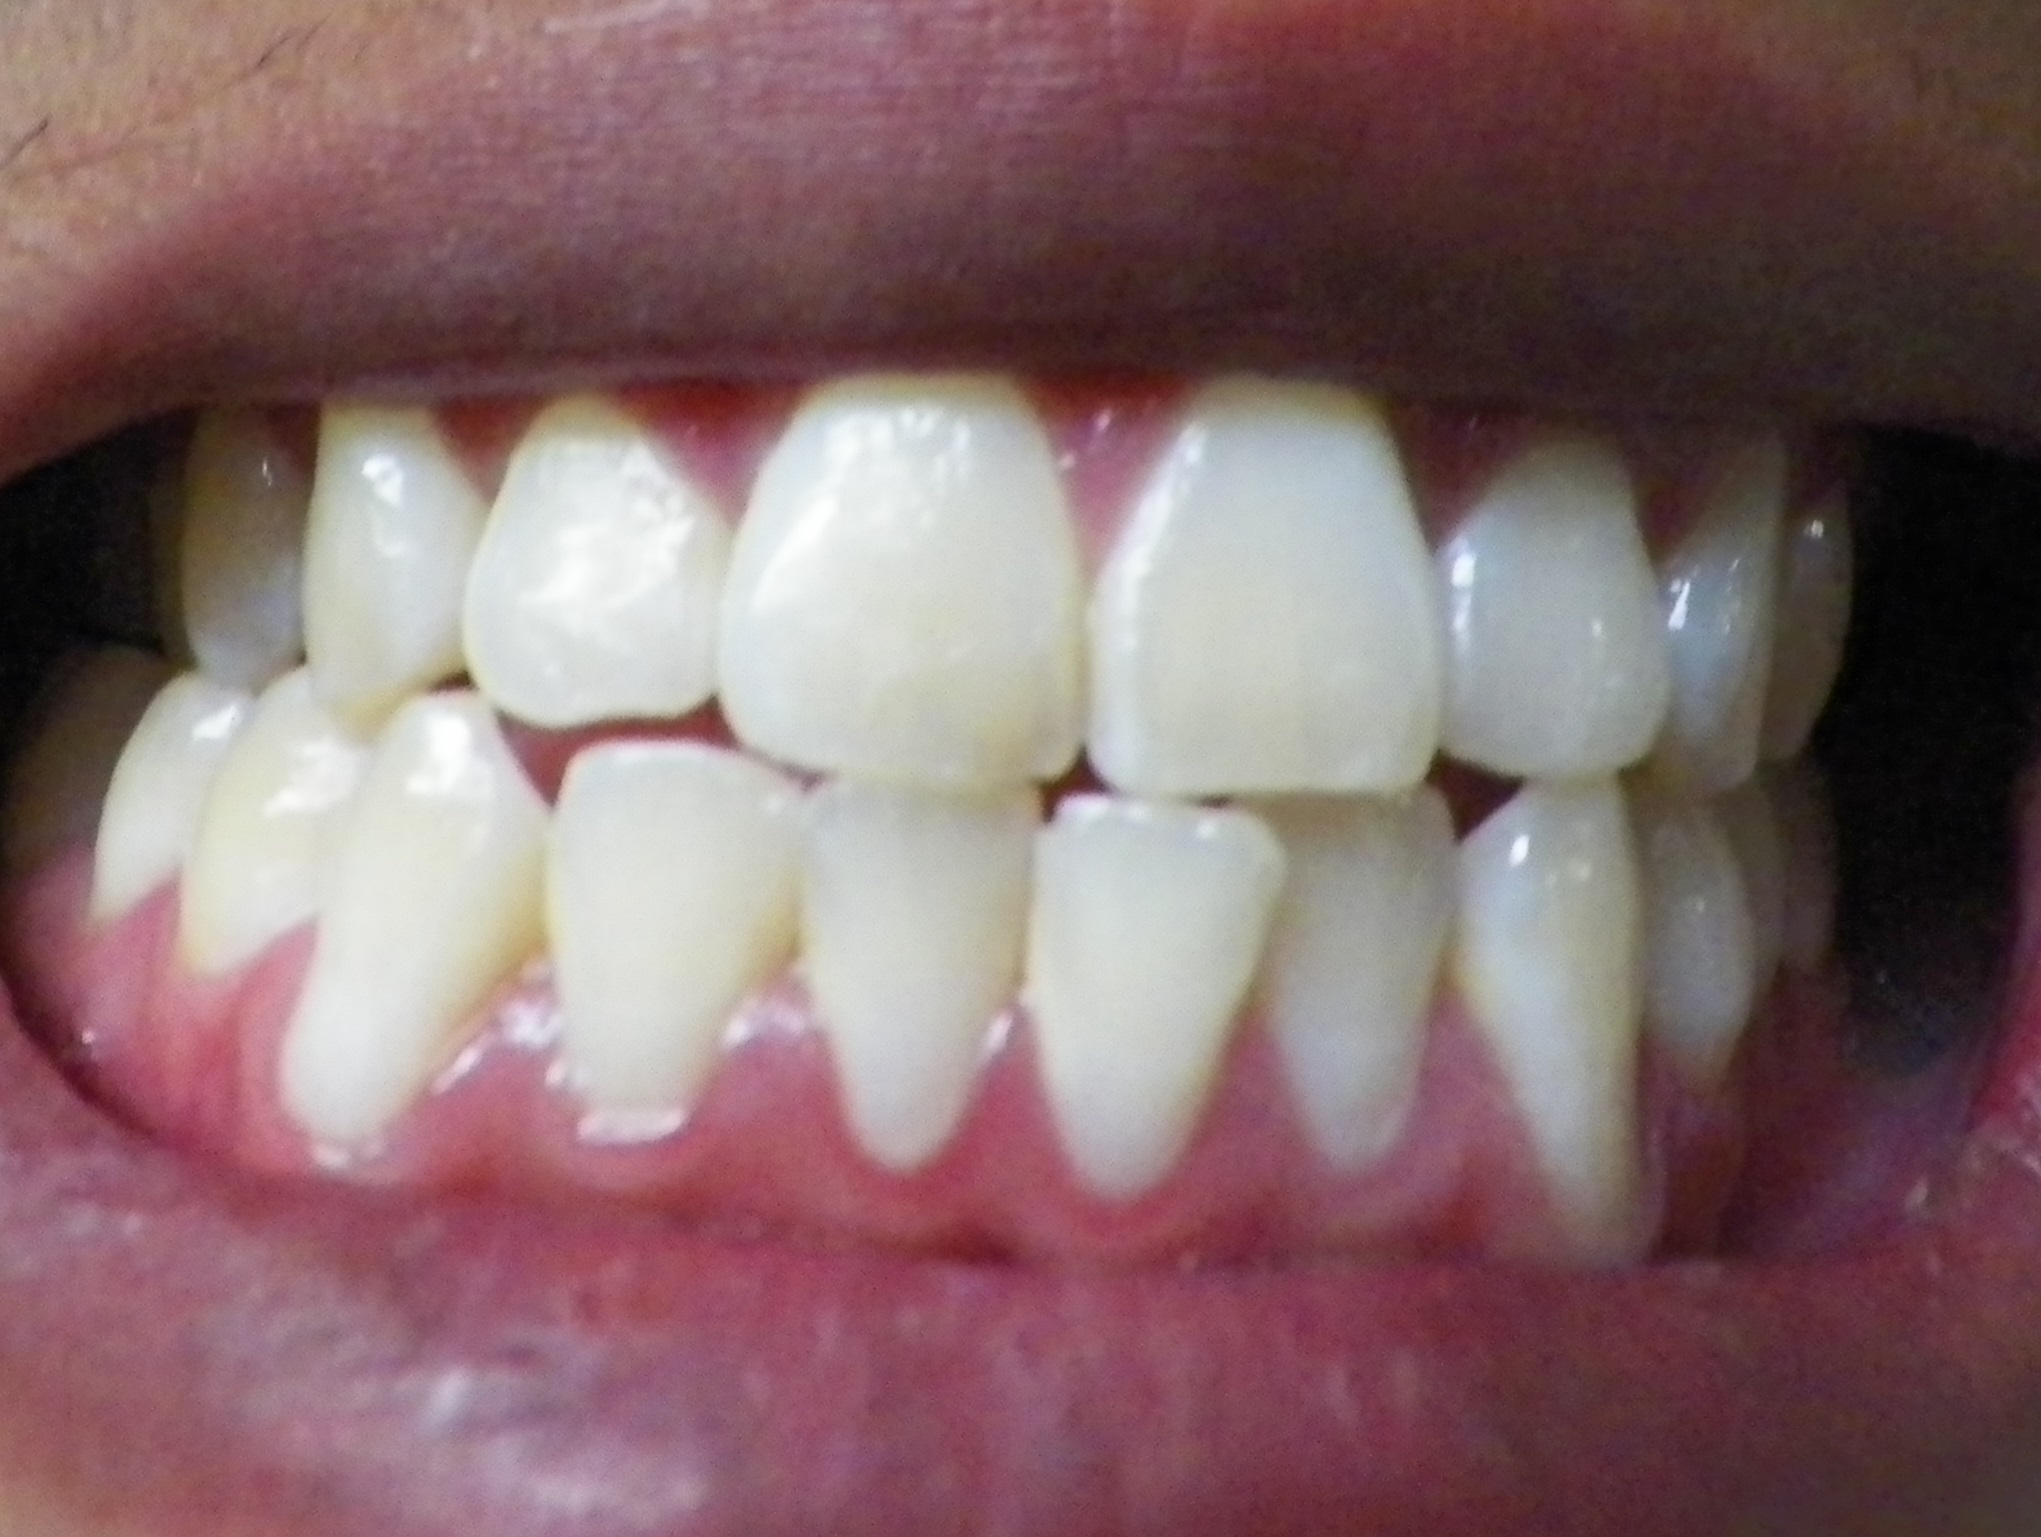boca: (86, 376, 1875, 1195)
